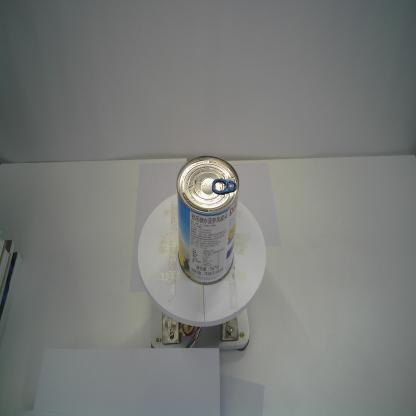Canned Food: (177, 155, 240, 286)
